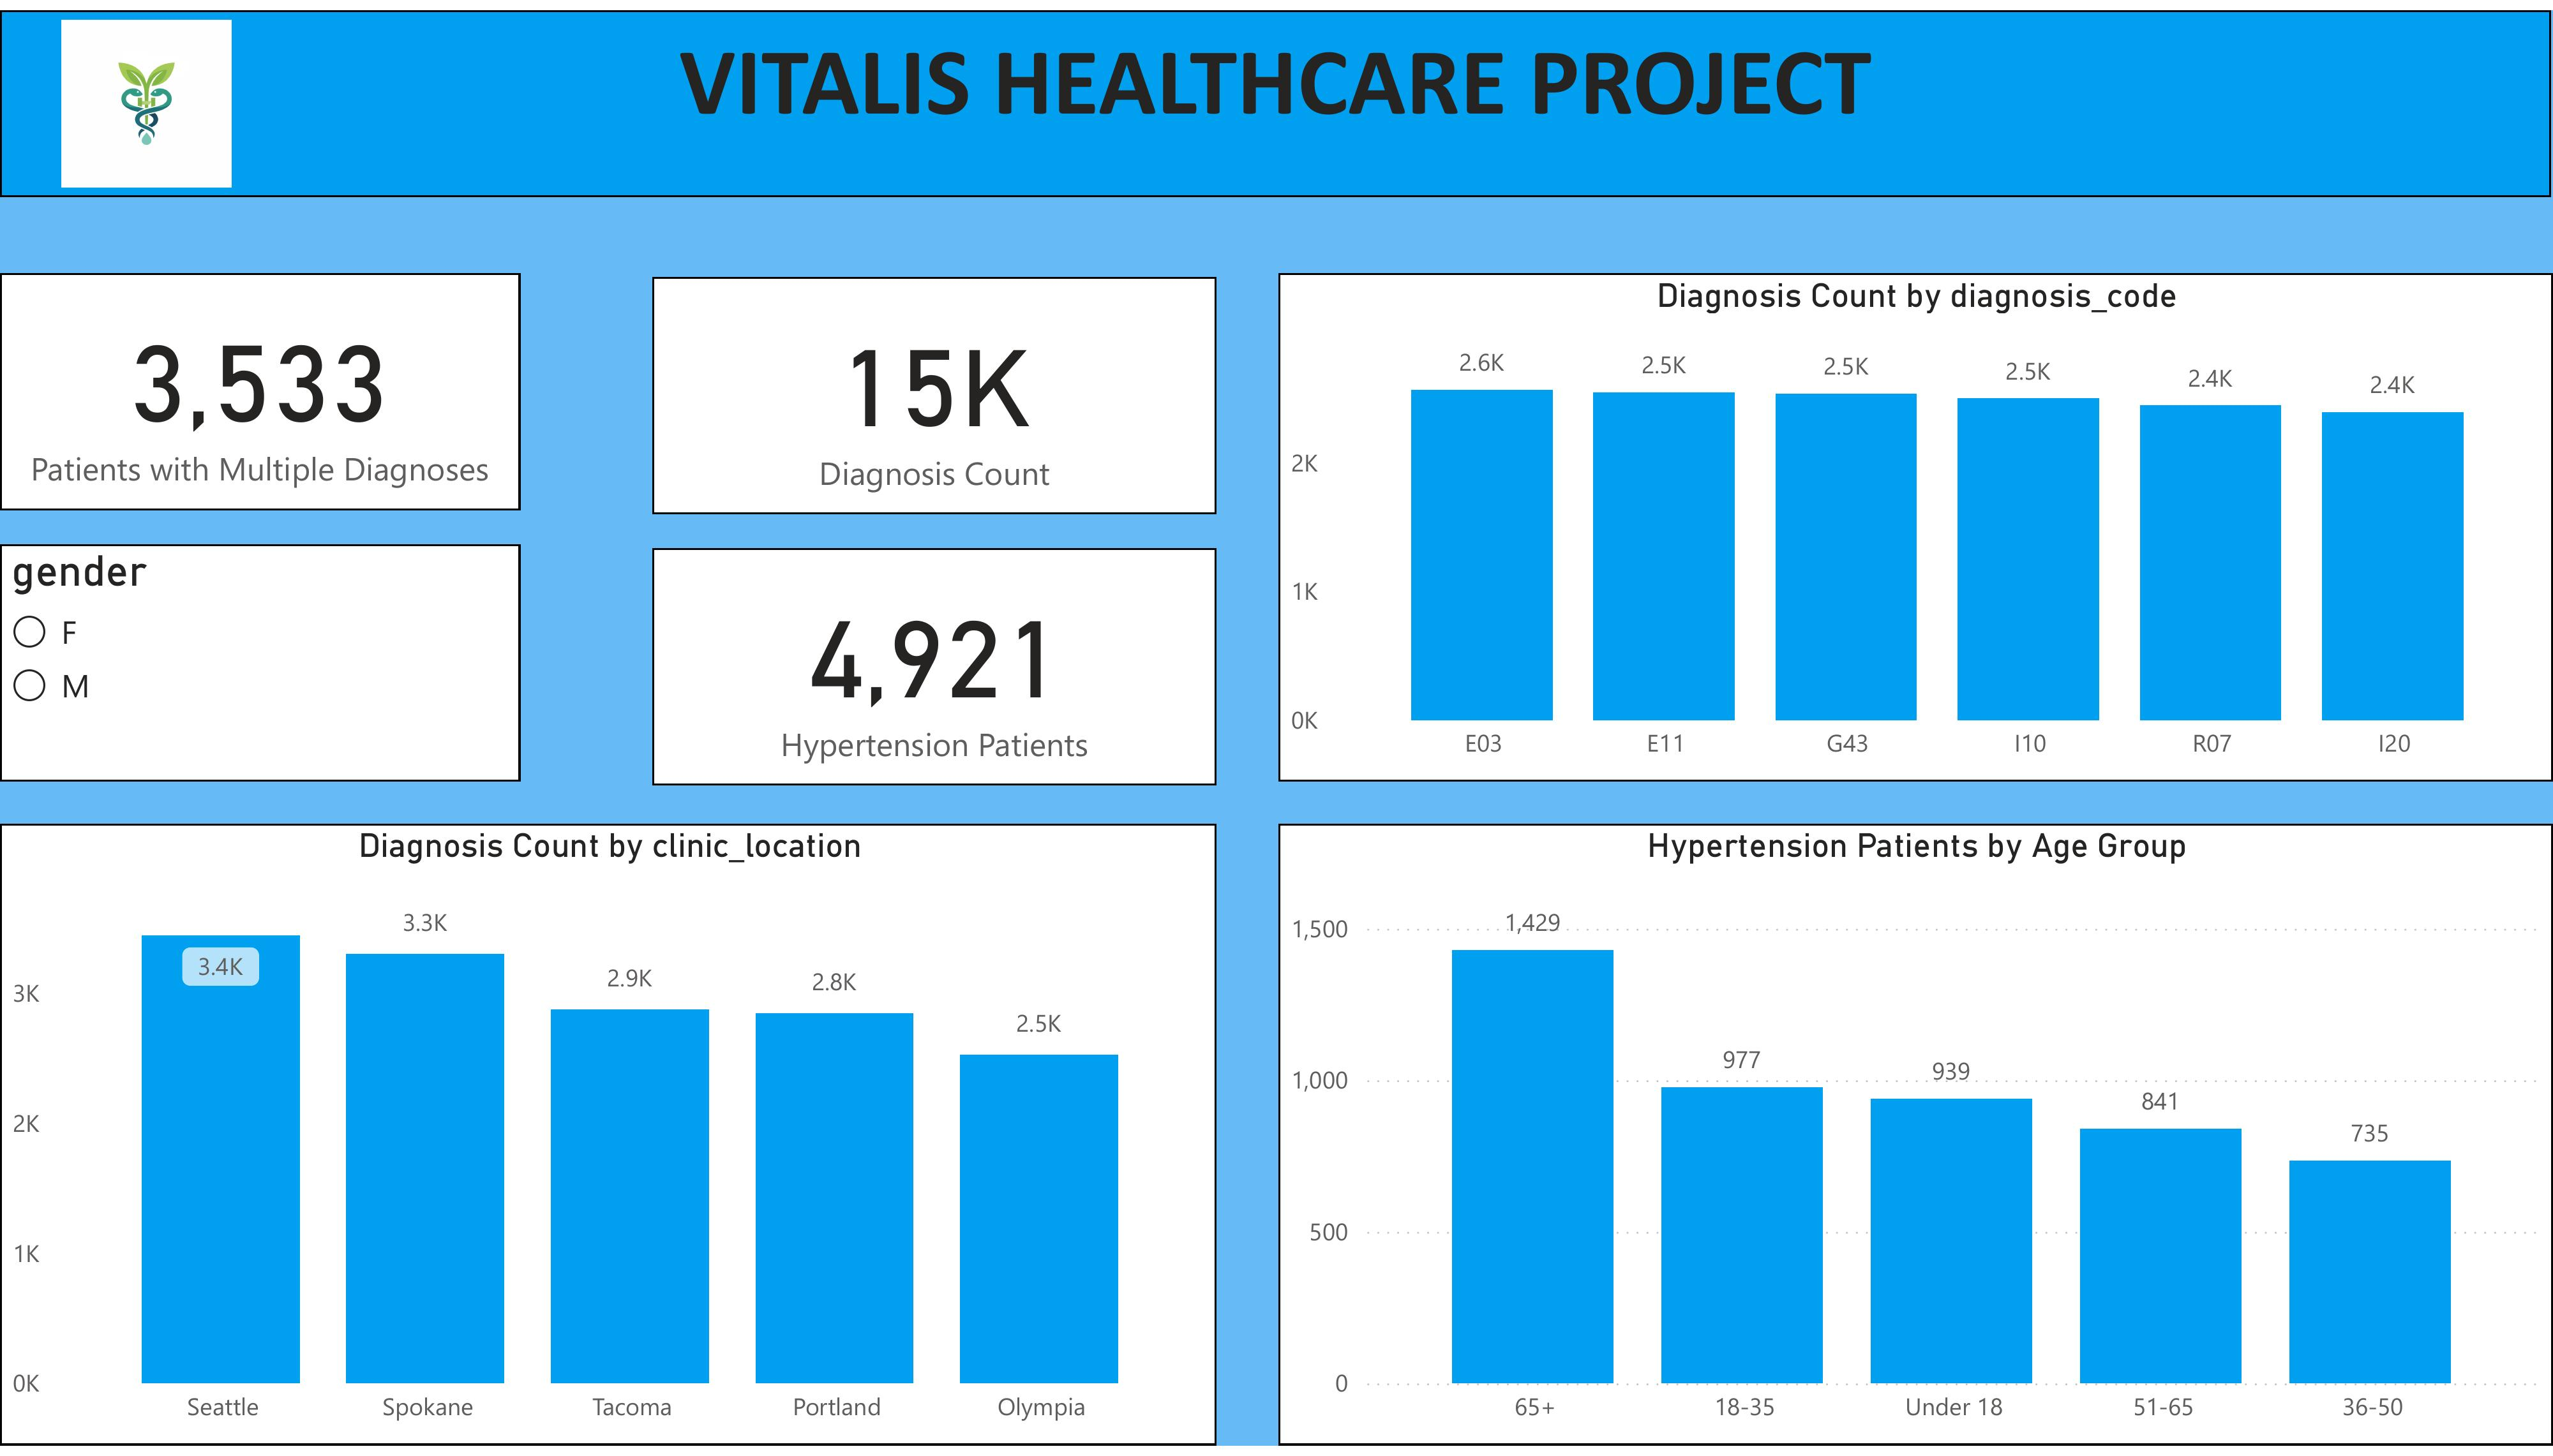

This screenshot's page, from the dashboard's own definition file:
{"tool":"powerbi","page":{"name":"Diagnosis Analysis","canvas":[1280,720],"ordinal":4},"visuals":[{"type":"lineStackedColumnComboChart","fields":{"Category":["healthcare doctors.clinic_location"],"Y":["healthcare diagnoses.Diagnosis Count"]},"box":[0,408.2,610.4,311.8],"z":0},{"type":"card","fields":{"Values":["healthcare diagnoses.Patients with Multiple Diagnoses"]},"box":[0,132.3,260.8,119.1],"z":1000},{"type":"card","fields":{"Values":["healthcare diagnoses.Hypertension Patients"]},"box":[326.9,270.2,283.5,119.1],"z":2000},{"type":"card","fields":{"Values":["healthcare diagnoses.Diagnosis Count"]},"box":[326.9,134.2,283.5,119.1],"z":3000},{"type":"listSlicer","fields":{"Values":["healthcare patients.gender"]},"box":[0,268.4,260.8,119.1],"z":4000},{"type":"columnChart","fields":{"Category":["healthcare patients.Age Group"],"Y":["healthcare diagnoses.Hypertension Patients"]},"box":[640.6,408.2,638.8,311.8],"z":5000},{"type":"textbox","box":[0,0,1279.4,94.5],"z":6000},{"type":"clusteredColumnChart","fields":{"Y":["healthcare diagnoses.Diagnosis Count"],"Category":["healthcare diagnoses.diagnosis_code"]},"box":[640.6,132.3,638.8,255.1],"z":7000},{"type":"image","box":[75.6,0,300.5,94.5],"z":8000},{"type":"image","box":[0,0,147.4,94.5],"z":9000}]}

Visuals, with their boxes in screenshot pixels (x1, y1, x2, y2), scaled from the page's 1280x720 canvas onto the 2553x1456 screenshot:
lineStackedColumnComboChart - healthcare doctors.clinic_location x healthcare diagnoses.Diagnosis Count: Rect(0, 826, 1218, 1455)
card - healthcare diagnoses.Patients with Multiple Diagnoses: Rect(0, 267, 520, 509)
card - healthcare diagnoses.Hypertension Patients: Rect(652, 546, 1218, 787)
card - healthcare diagnoses.Diagnosis Count: Rect(652, 271, 1218, 512)
listSlicer - healthcare patients.gender: Rect(0, 543, 520, 784)
columnChart - healthcare patients.Age Group x healthcare diagnoses.Hypertension Patients: Rect(1278, 826, 2552, 1455)
textbox: Rect(0, 0, 2552, 191)
clusteredColumnChart - healthcare diagnoses.Diagnosis Count x healthcare diagnoses.diagnosis_code: Rect(1278, 267, 2552, 784)
image: Rect(151, 0, 750, 191)
image: Rect(0, 0, 294, 191)
